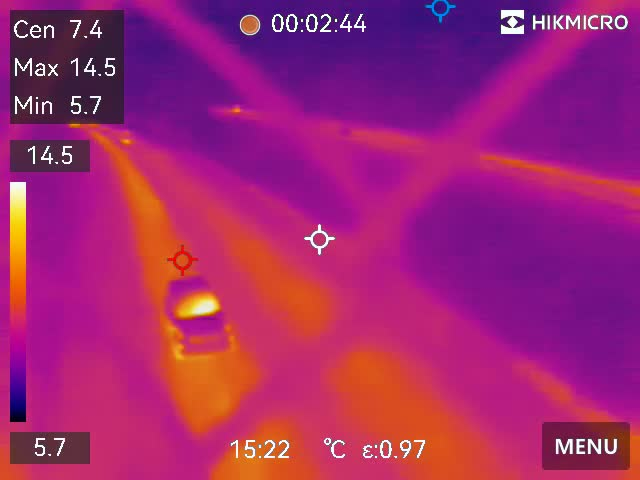vehicle: (155, 266, 241, 369)
